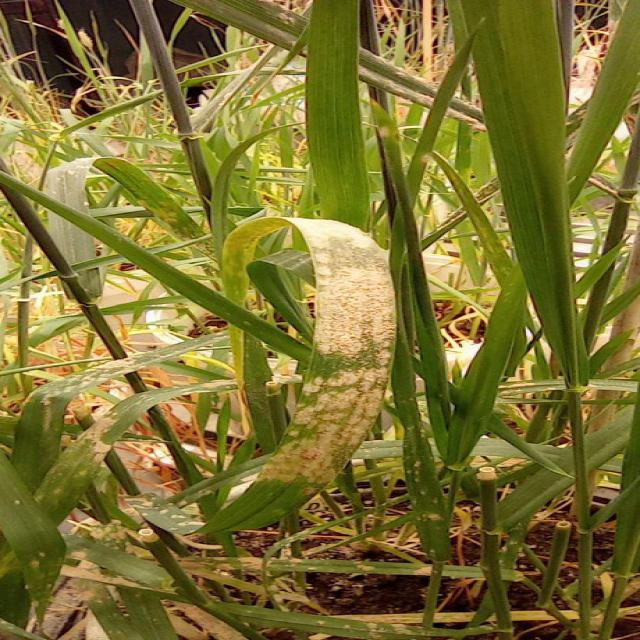wheat-powdery-mildew: (259, 218, 395, 486), (20, 330, 228, 433), (48, 381, 237, 484), (261, 610, 471, 640)
